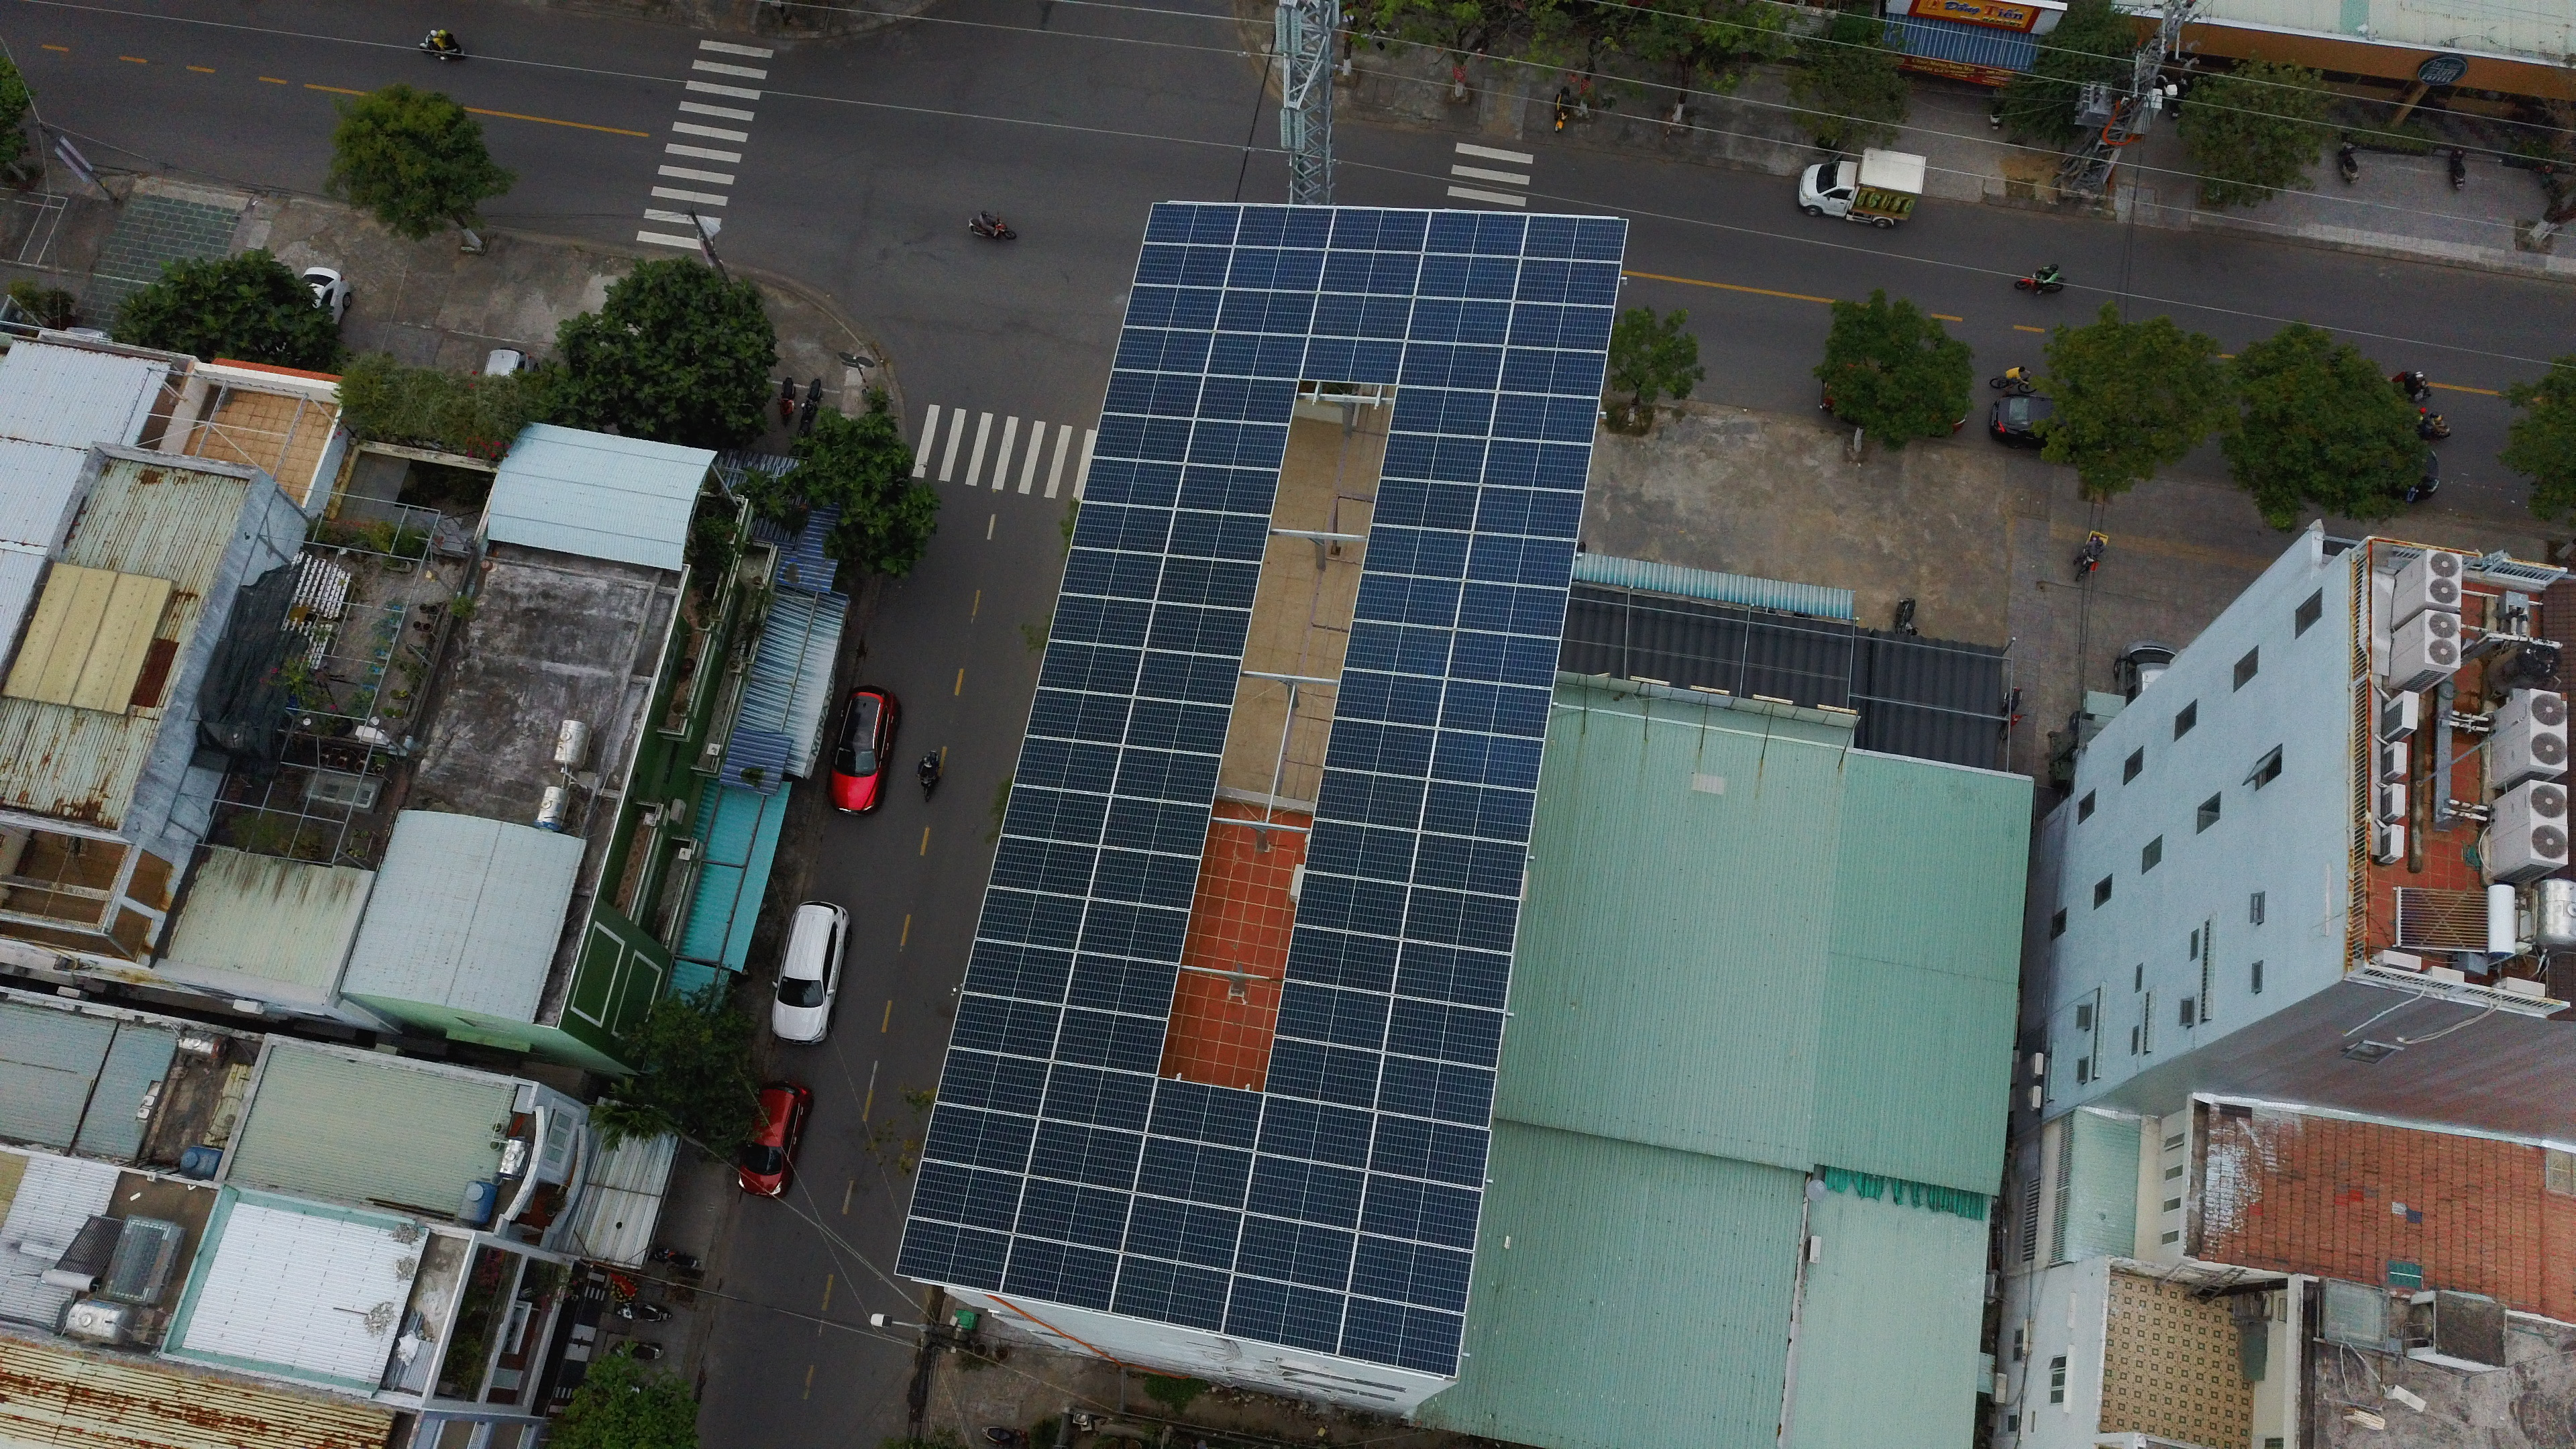solar: (1336, 1295, 1465, 1378), (1348, 1230, 1476, 1313), (1357, 1169, 1481, 1253), (998, 1231, 1122, 1315), (1221, 1272, 1345, 1355), (1373, 1049, 1499, 1131), (1246, 1150, 1368, 1233), (1111, 1251, 1233, 1334), (1223, 1274, 1350, 1353), (1263, 1033, 1389, 1113), (1120, 1192, 1246, 1272), (1231, 1212, 1357, 1292), (1244, 1150, 1366, 1231), (1366, 1109, 1490, 1189), (1010, 1175, 1136, 1253), (1384, 991, 1507, 1069), (1254, 1093, 1378, 1171), (918, 1099, 1040, 1177), (1274, 977, 1396, 1054), (1134, 1131, 1254, 1208), (1136, 1136, 1256, 1214), (906, 1159, 1028, 1235), (892, 1215, 1014, 1292), (1028, 1115, 1146, 1192), (1392, 936, 1511, 1012), (934, 1044, 1054, 1118), (1037, 1060, 1157, 1134), (1145, 1079, 1265, 1154), (1401, 883, 1522, 955), (1408, 826, 1529, 897), (1284, 924, 1403, 994), (1417, 777, 1537, 844), (1306, 816, 1419, 886), (1053, 1005, 1166, 1076), (1313, 766, 1433, 832), (1063, 950, 1180, 1017), (962, 938, 1077, 1005), (1293, 874, 1410, 938), (1322, 715, 1435, 780), (1430, 725, 1543, 791), (989, 832, 1099, 899), (975, 886, 1086, 952), (950, 993, 1062, 1058), (1090, 847, 1201, 913), (1077, 899, 1189, 964), (1076, 897, 1187, 962), (1438, 676, 1553, 738), (1001, 784, 1113, 846), (1099, 794, 1210, 856), (1359, 570, 1472, 630), (1454, 577, 1568, 637), (1361, 522, 1476, 580), (1343, 619, 1454, 679), (1024, 683, 1134, 743), (1014, 734, 1123, 794), (1132, 648, 1242, 708), (1332, 669, 1442, 729), (1123, 697, 1233, 757), (1111, 747, 1221, 807), (1463, 529, 1578, 586), (1371, 474, 1483, 533), (1449, 630, 1559, 688), (1479, 437, 1591, 494), (1382, 428, 1491, 485), (1472, 485, 1582, 541), (1157, 554, 1263, 612), (1490, 389, 1599, 444), (1394, 386, 1502, 441), (1499, 347, 1610, 400), (1060, 545, 1166, 600), (1162, 508, 1272, 561), (1081, 455, 1185, 510), (1070, 499, 1175, 554), (1049, 593, 1154, 648), (1039, 639, 1143, 694), (1185, 416, 1290, 471), (1175, 464, 1279, 518), (1145, 602, 1249, 656), (1507, 301, 1617, 352), (1092, 410, 1196, 464), (1113, 326, 1219, 377), (1194, 372, 1300, 423), (1299, 333, 1408, 382), (1396, 340, 1506, 389), (1207, 329, 1311, 380), (1407, 297, 1516, 345), (1523, 212, 1628, 262), (1320, 249, 1424, 299), (1100, 370, 1205, 419), (1514, 258, 1622, 306), (1120, 283, 1228, 331), (1215, 288, 1323, 336), (1311, 292, 1417, 340), (1330, 205, 1435, 253), (1224, 244, 1329, 292), (1415, 253, 1520, 301), (1424, 209, 1529, 255), (1141, 202, 1244, 248), (1132, 241, 1235, 287), (1233, 205, 1336, 249)
